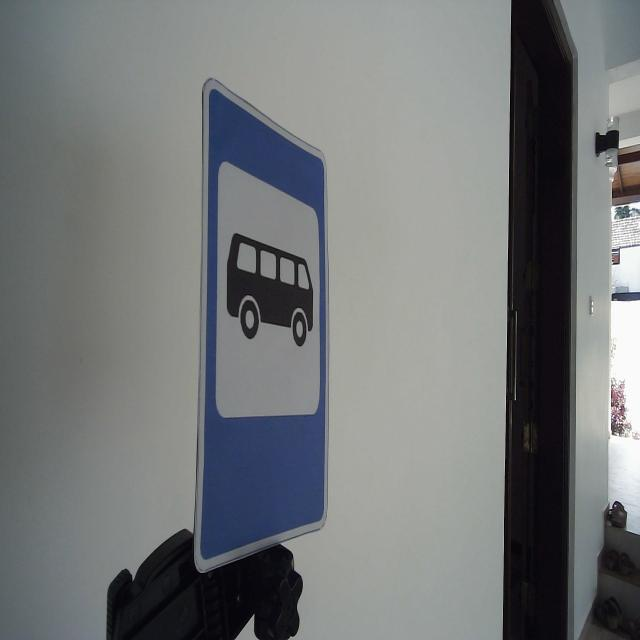bus_stop: (192, 73, 332, 580)
